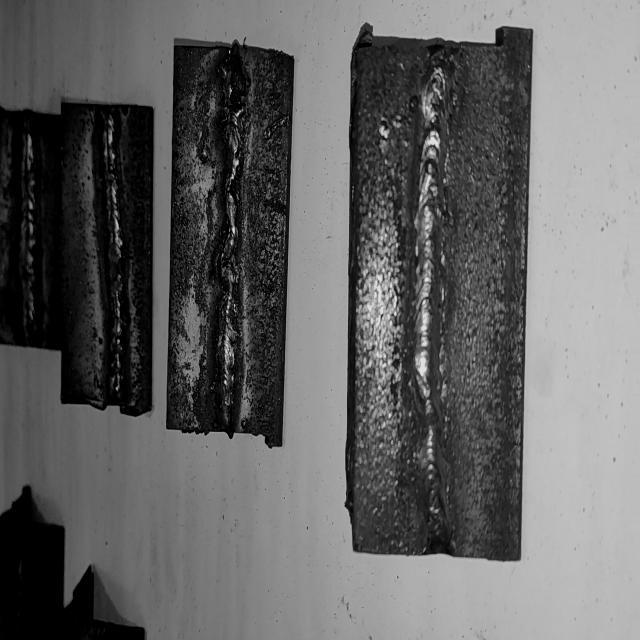Welding Line: (415, 45, 450, 548), (217, 52, 246, 427), (100, 114, 126, 396), (17, 118, 38, 342)
Workpiece: (341, 12, 537, 567), (164, 38, 300, 440), (58, 101, 154, 414), (0, 106, 64, 352)
